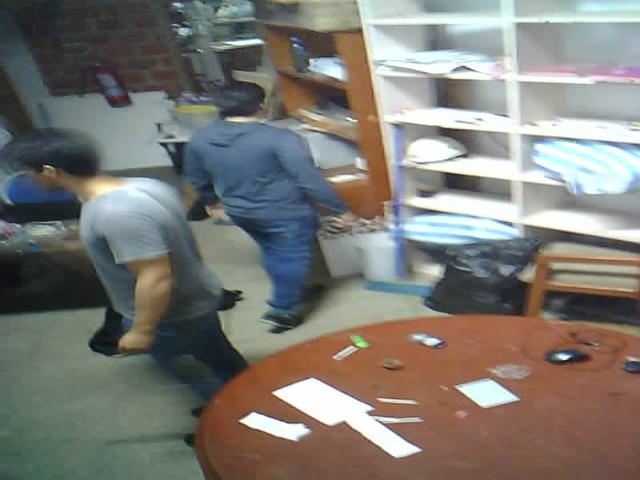person: (3, 112, 254, 464), (184, 42, 373, 351)
